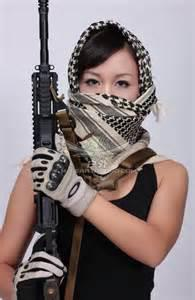OK: (82, 66, 140, 128)
